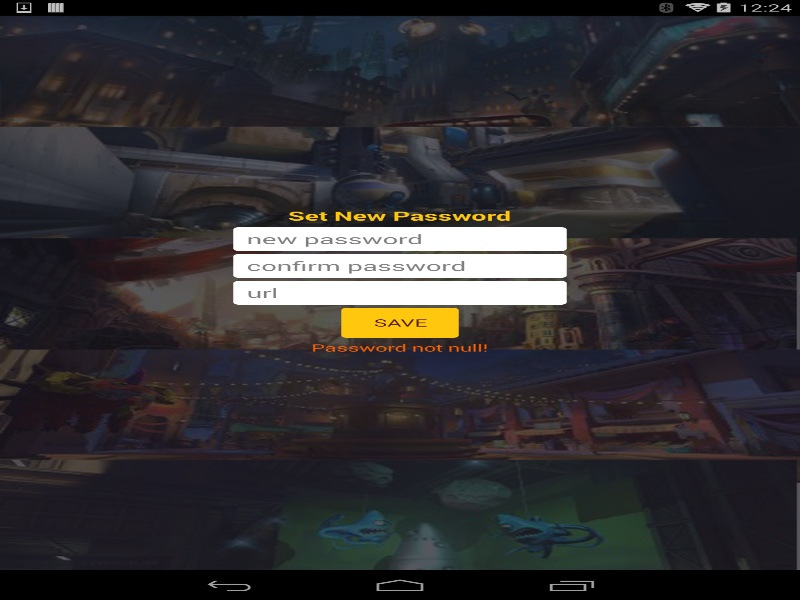Button: (341, 307, 458, 337)
Input: (233, 280, 566, 304), (233, 227, 566, 250), (233, 254, 566, 277)
